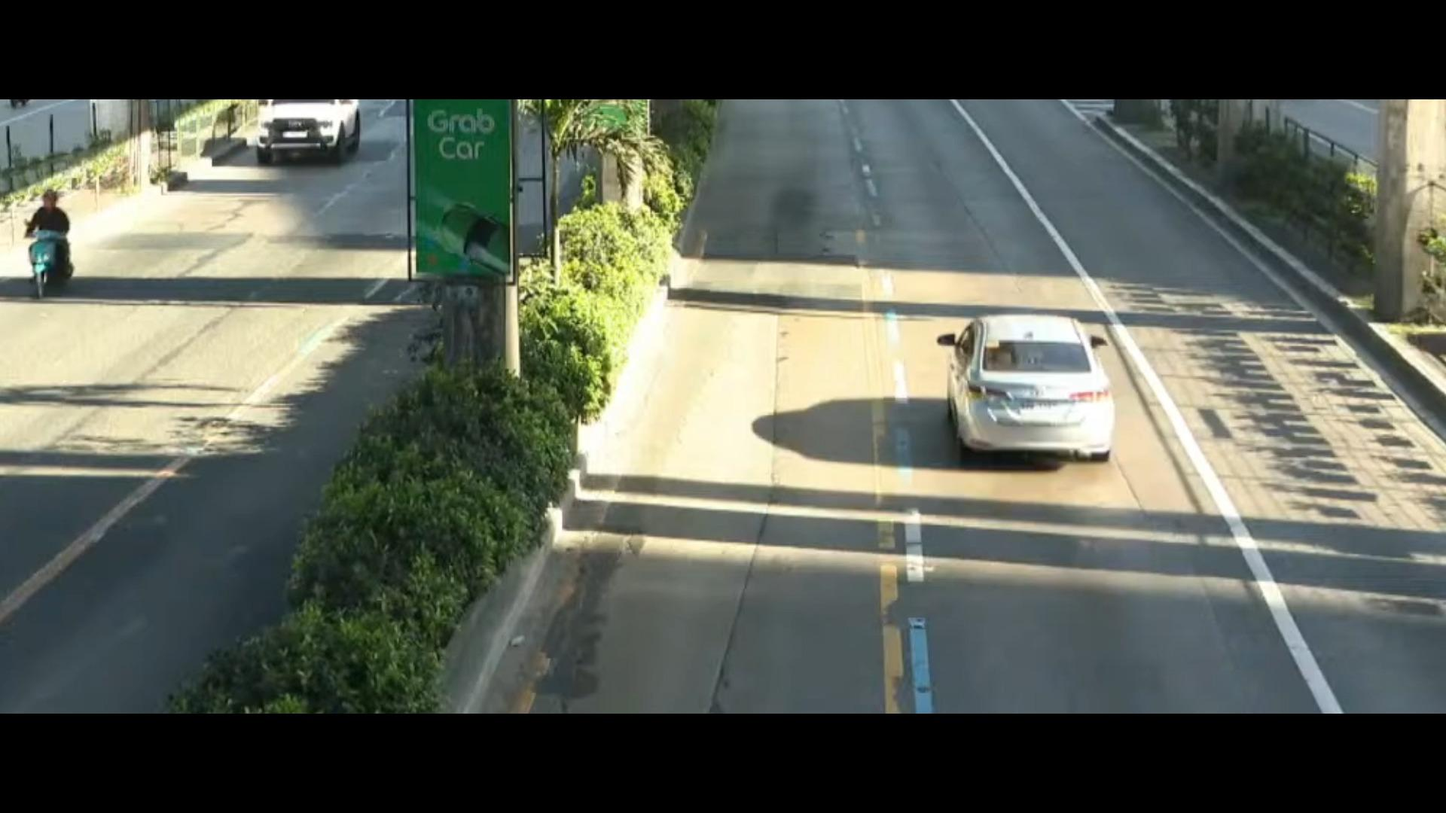Motorcycle: (0, 172, 96, 306)
Sedan: (925, 286, 1131, 476)
